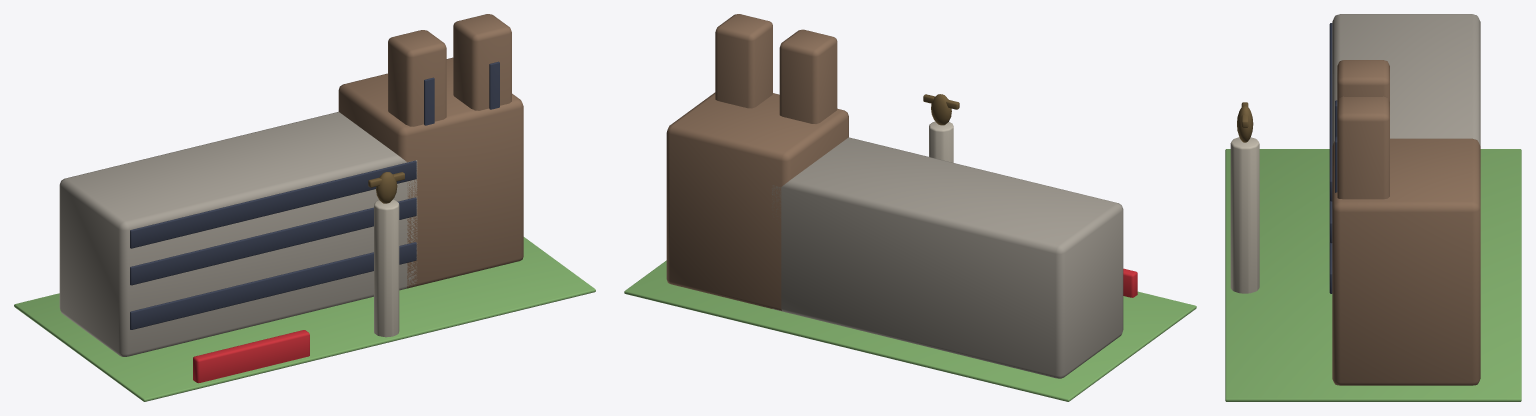
File: uminho.glb
3 views of the same model, side by side, from view 1: azimuth 30°, elevation 25°; view 2: azimuth 150°, elevation 25°; view 3: azimuth 270°, elevation 25° (orthographic). The views are drawn at different scales.
Parts seen in each view (by area): view 1: uminho; view 2: uminho; view 3: uminho.
Part boxes in pixels (<box>): uminho: <box>14,14,595,401</box>; uminho: <box>624,14,1196,401</box>; uminho: <box>1225,14,1521,401</box>.
Size of the model in its own units: 18 by 9 by 9.
